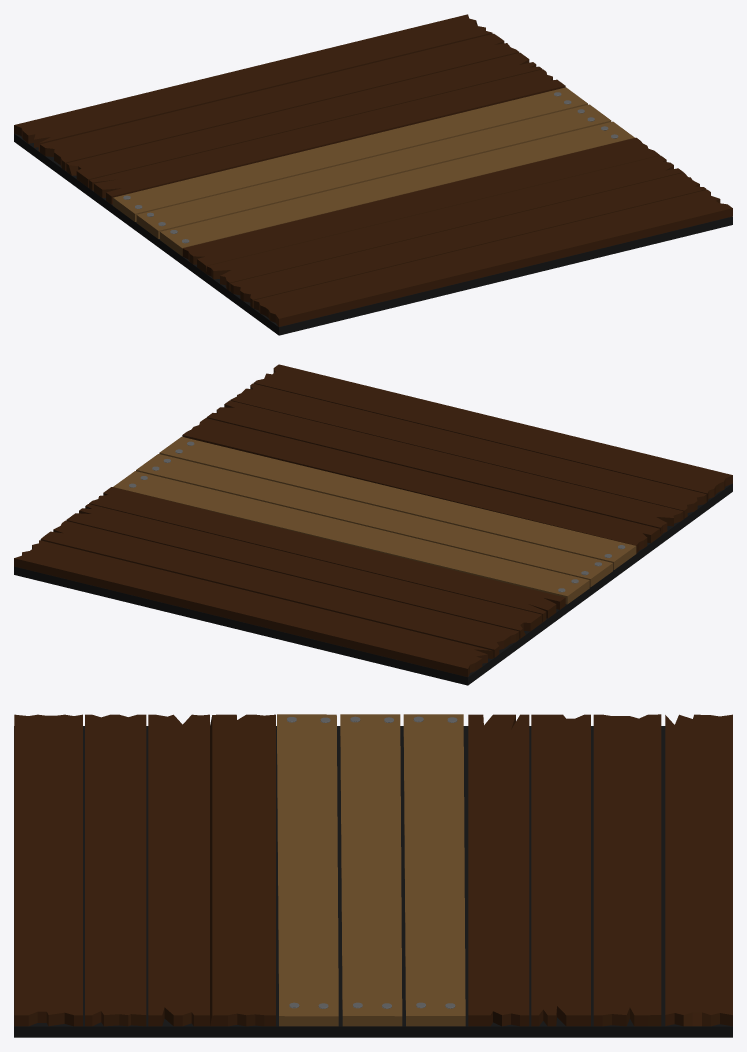
File: floor_tier3.fbx
The picture shows the model from 3 angles, top to bottom: view 1: azimuth 30°, elevation 25°; view 2: azimuth 150°, elevation 25°; view 3: azimuth 270°, elevation 25°; orthographic projection. The views are drawn at different scales.
Visible parts, largest first — view 1: Cube.002, Cube.014, Cube.011, Cube.005, Cube.009, Cube.003, Cube.006, Cube.007, Cube.004, Cube.010, Cube.008, Cube; view 2: Cube.014, Cube.011, Cube.002, Cube.005, Cube.004, Cube.008, Cube.006, Cube.009, Cube.003, Cube.007, Cube.010, Cube; view 3: Cube.011, Cube.002, Cube.014, Cube.005, Cube.009, Cube.003, Cube.004, Cube.006, Cube.007, Cube.008, Cube, Cube.010.
Boxes of the visible parts, x1=… form: Cube.002: x1=253, y1=189, x2=732, y2=326; Cube.014: x1=14, y1=14, x2=492, y2=151; Cube.011: x1=40, y1=33, x2=519, y2=170; Cube.005: x1=182, y1=137, x2=659, y2=273; Cube.009: x1=89, y1=69, x2=565, y2=204; Cube.003: x1=230, y1=172, x2=706, y2=307; Cube.006: x1=136, y1=104, x2=611, y2=238; Cube.007: x1=113, y1=87, x2=587, y2=221; Cube.004: x1=206, y1=155, x2=683, y2=290; Cube.010: x1=66, y1=52, x2=542, y2=187; Cube.008: x1=160, y1=121, x2=634, y2=255; Cube: x1=14, y1=133, x2=732, y2=335; Cube.014: x1=14, y1=540, x2=493, y2=676; Cube.011: x1=40, y1=520, x2=519, y2=657; Cube.002: x1=253, y1=364, x2=732, y2=501; Cube.005: x1=182, y1=418, x2=660, y2=553; Cube.004: x1=206, y1=400, x2=683, y2=535; Cube.008: x1=159, y1=436, x2=636, y2=569; Cube.006: x1=136, y1=454, x2=612, y2=587; Cube.009: x1=89, y1=487, x2=565, y2=621; Cube.003: x1=230, y1=383, x2=706, y2=518; Cube.007: x1=113, y1=471, x2=589, y2=604; Cube.010: x1=66, y1=504, x2=542, y2=638; Cube: x1=14, y1=483, x2=732, y2=685; Cube.011: x1=593, y1=714, x2=661, y2=1026; Cube.002: x1=14, y1=714, x2=82, y2=1026; Cube.014: x1=665, y1=714, x2=732, y2=1026; Cube.005: x1=210, y1=714, x2=275, y2=1026; Cube.009: x1=468, y1=714, x2=529, y2=1026; Cube.003: x1=85, y1=714, x2=146, y2=1026; Cube.004: x1=148, y1=714, x2=209, y2=1026; Cube.006: x1=340, y1=714, x2=402, y2=1026; Cube.007: x1=403, y1=714, x2=465, y2=1026; Cube.008: x1=277, y1=714, x2=338, y2=1026; Cube: x1=14, y1=726, x2=732, y2=1037; Cube.010: x1=531, y1=714, x2=590, y2=1026.
Bounding box in the file's own units: 655 × 24.65 × 662.
